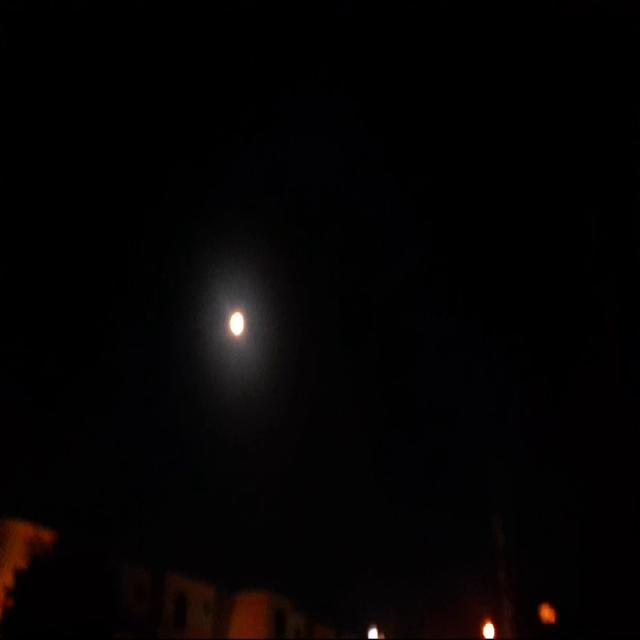moon: (233, 309, 256, 348)
